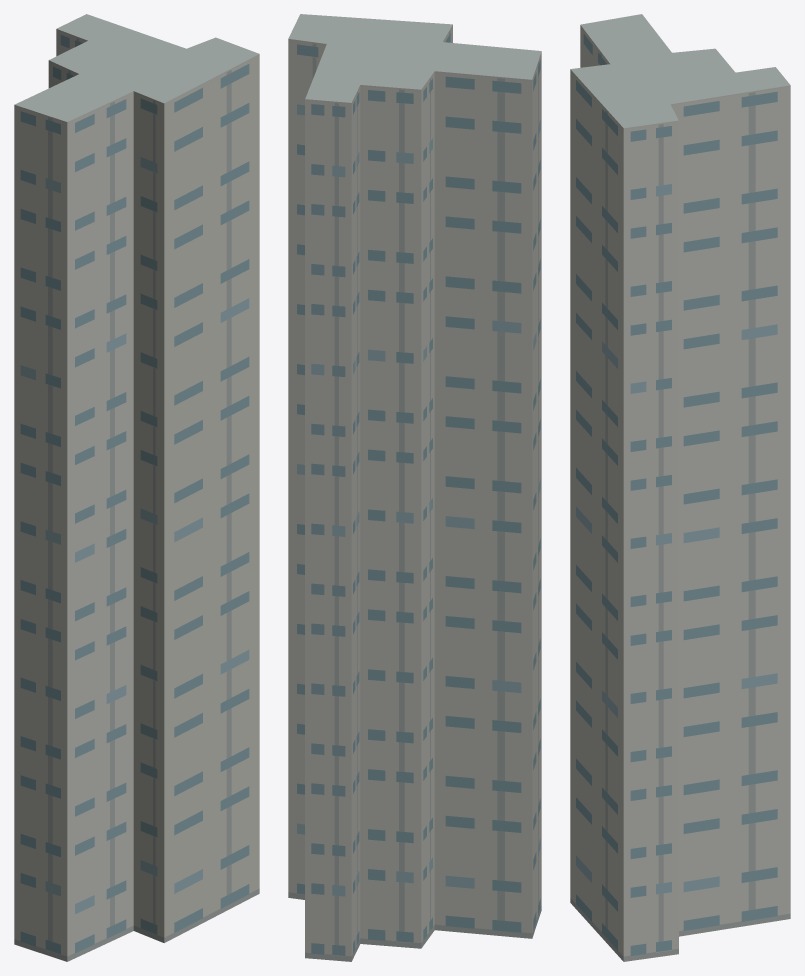
Rendered from residential-c52c769d-1c45-4020-81f8-0cd9b73e5671.glb.
3 views of the same model, side by side, from view 1: azimuth 30°, elevation 25°; view 2: azimuth 150°, elevation 25°; view 3: azimuth 270°, elevation 25° (orthographic). The views are drawn at different scales.
Parts seen in each view (by area): view 1: residential-c52c769d-1c45-4020-81f8-0cd9b73e5671.tmp; view 2: residential-c52c769d-1c45-4020-81f8-0cd9b73e5671.tmp; view 3: residential-c52c769d-1c45-4020-81f8-0cd9b73e5671.tmp.
Part boxes in pixels (bbox=[...]): residential-c52c769d-1c45-4020-81f8-0cd9b73e5671.tmp: bbox=[14, 14, 259, 961]; residential-c52c769d-1c45-4020-81f8-0cd9b73e5671.tmp: bbox=[288, 14, 541, 961]; residential-c52c769d-1c45-4020-81f8-0cd9b73e5671.tmp: bbox=[570, 14, 790, 961].
Size of the model in its own units: 42.95 by 146 by 35.
